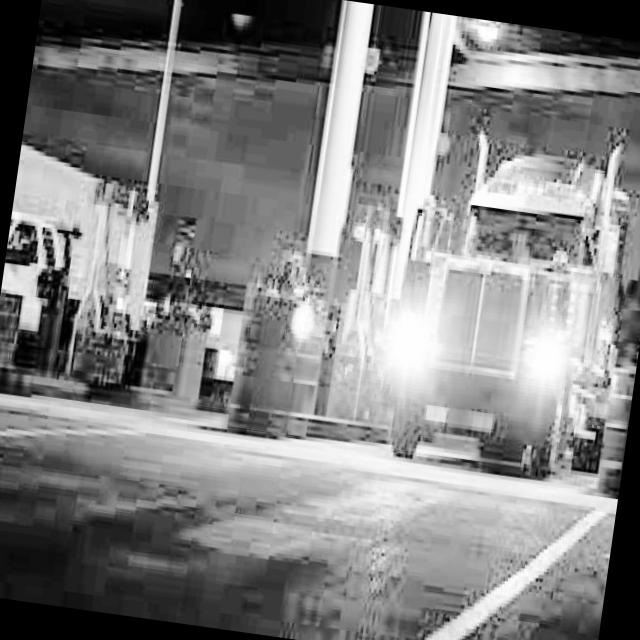Truck: (377, 112, 640, 485)
